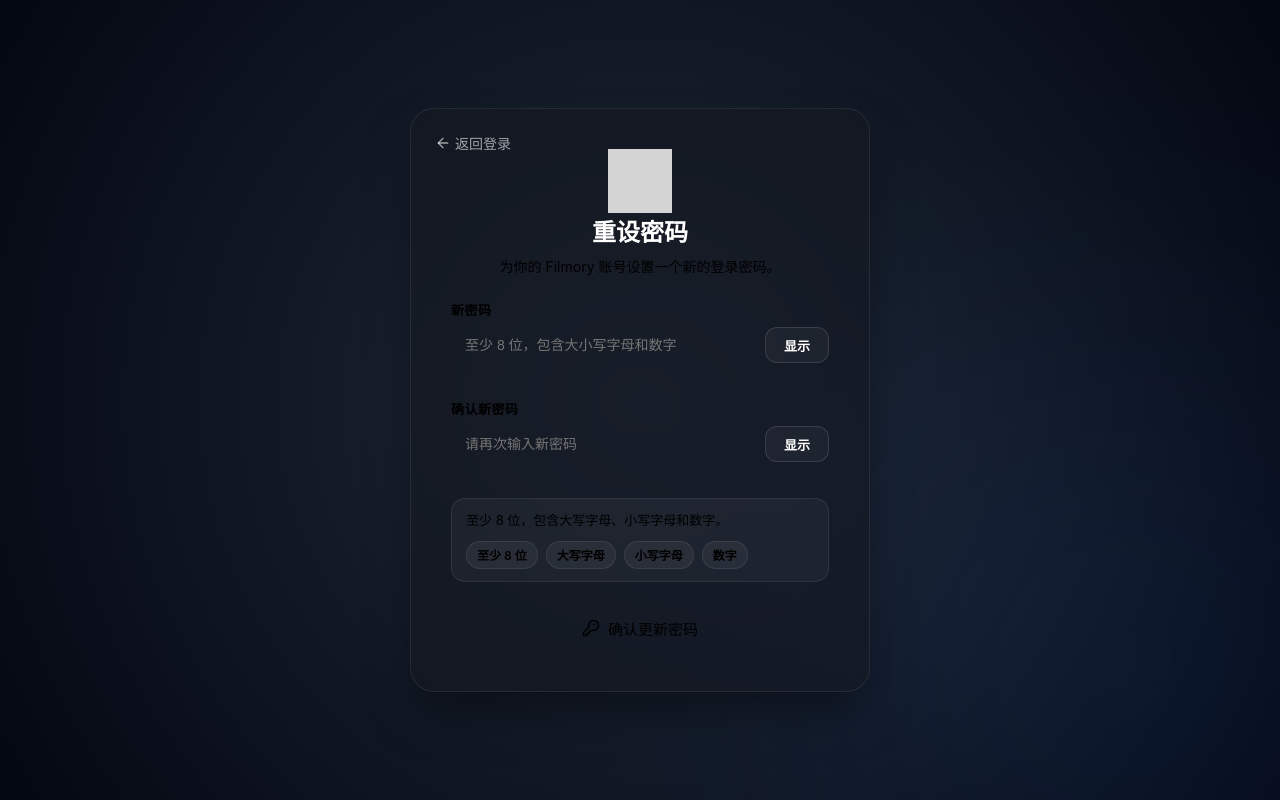
Scenario: Auth frontend closure › reset password updates password and logs out when a recovery session is present
Type "Newpassword1" into the password field labelled "新密码".
click(603, 345); type("Newpassword1")  # box [451,327,755,363]
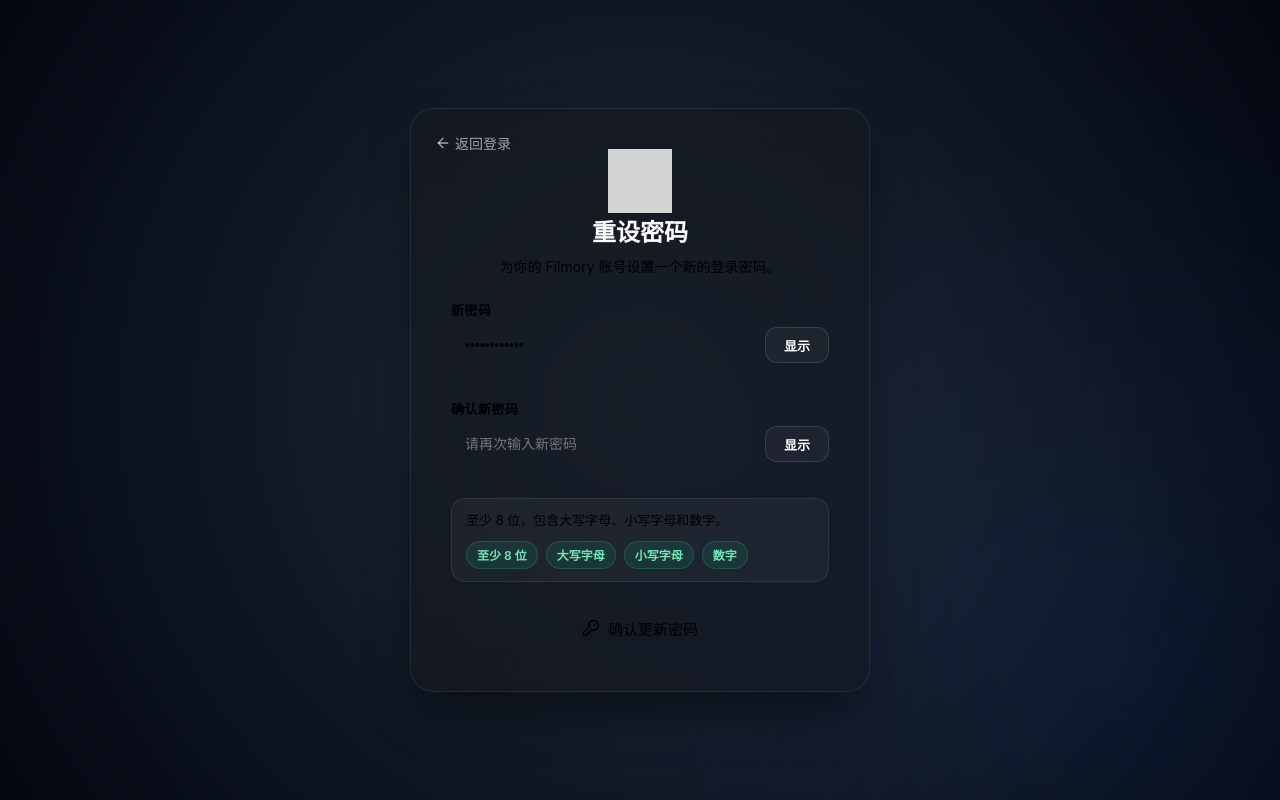
Type "Newpassword1" into the password field labelled "确认新密码".
click(603, 444); type("Newpassword1")  # box [451,426,755,462]
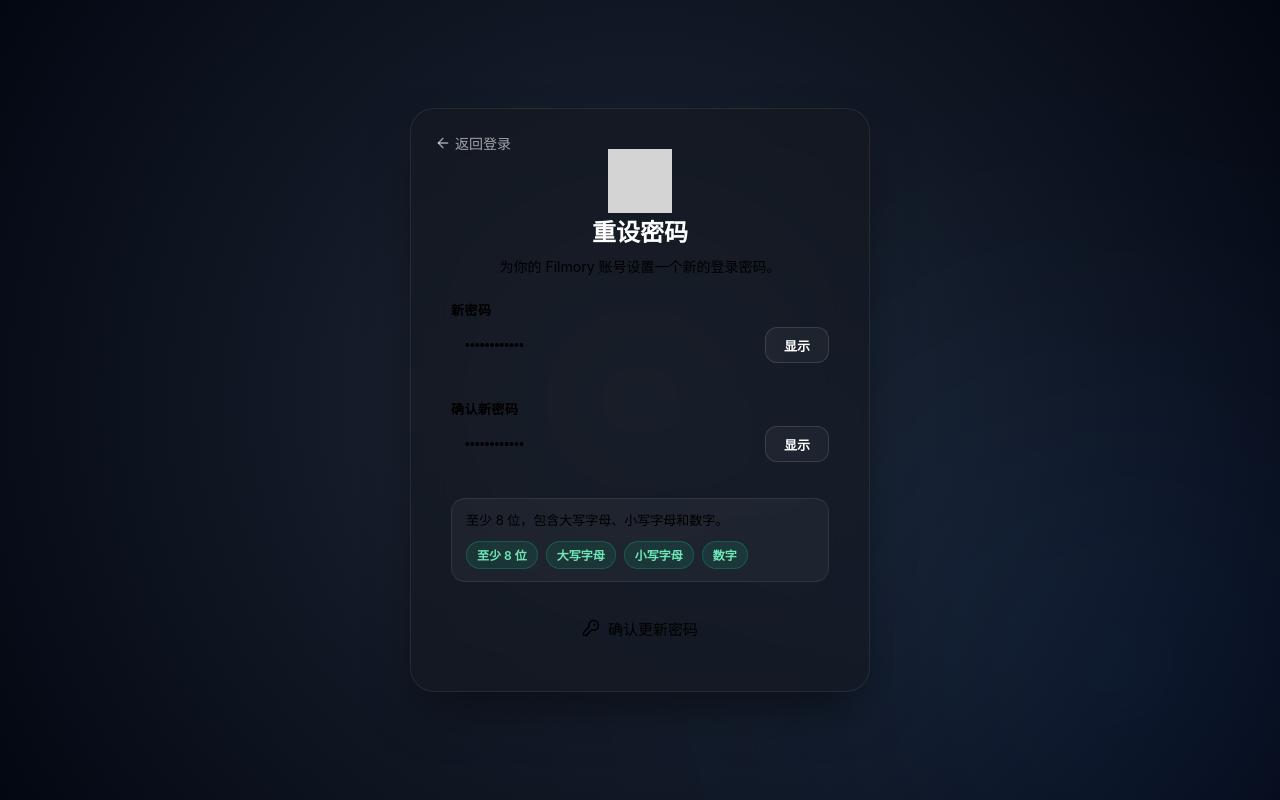
Click the button "确认更新密码".
click(640, 628)  # box [451,606,829,651]
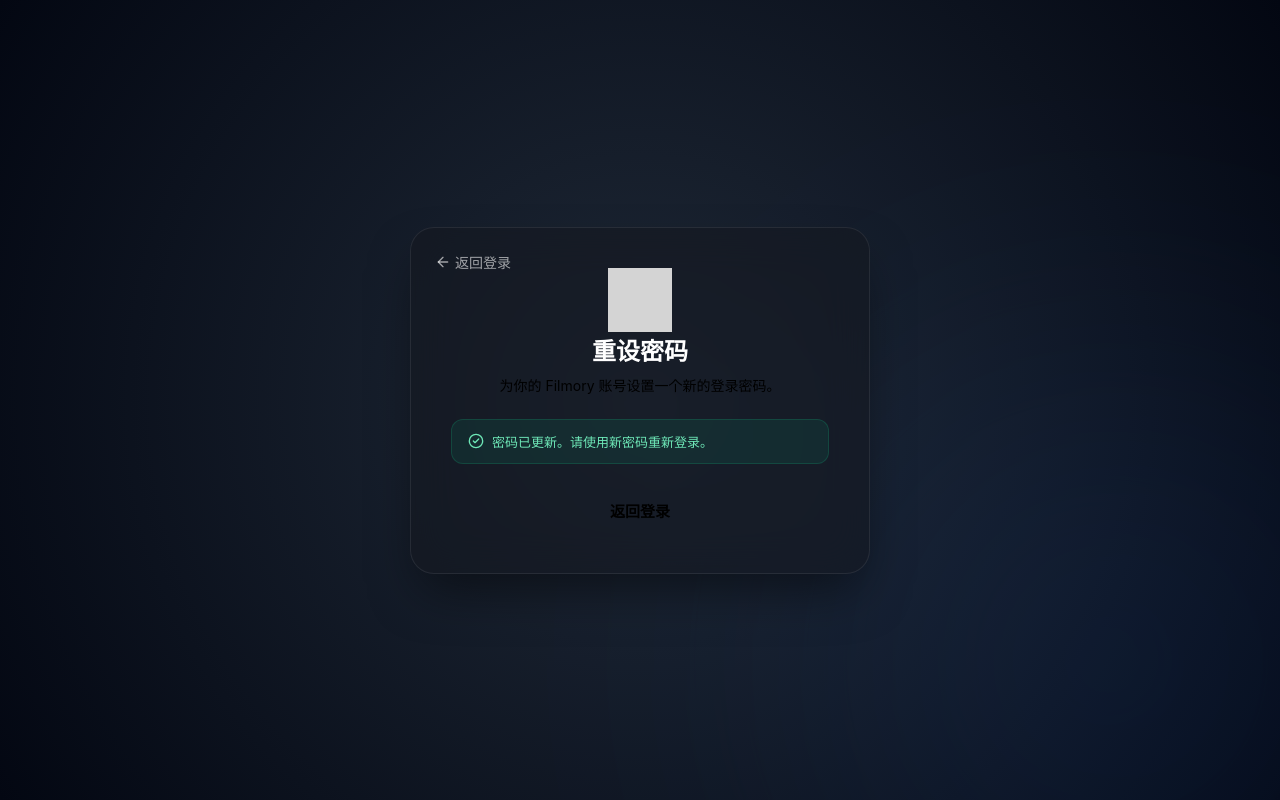
expect the text "密码已更新。请使用新密码重新登录。" is shown: met, box [492,432,713,450]
